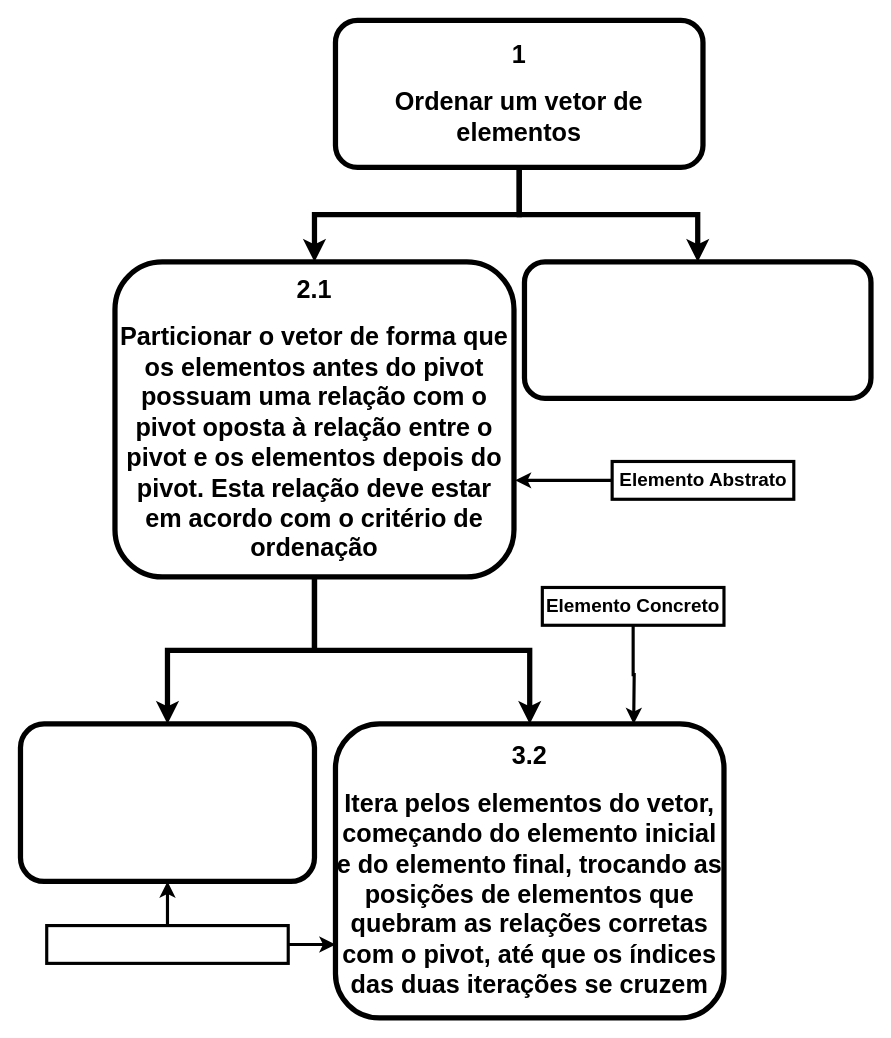
Some shapes in this 891 by 1038 pixel diagram are drawn without their labels. The shapes that lost their labels are listed below. From the top down, each one's centre as x and y in pixels, then its label:
pixel 697 330: 2.2 Ordenar cada partição do vetor
pixel 167 802: 3.1 Escolher um elemento para particionar o vetor (pivot)
pixel 167 943: Conjunto Solução de 2.1
